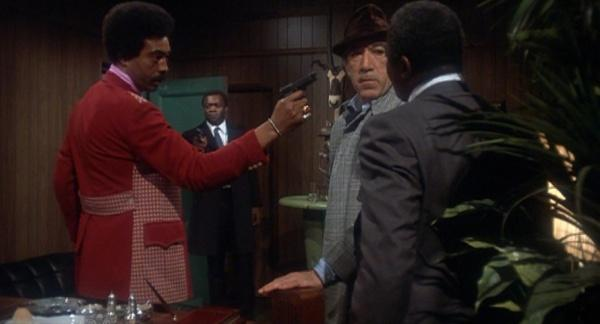Gun: (280, 68, 319, 100)
